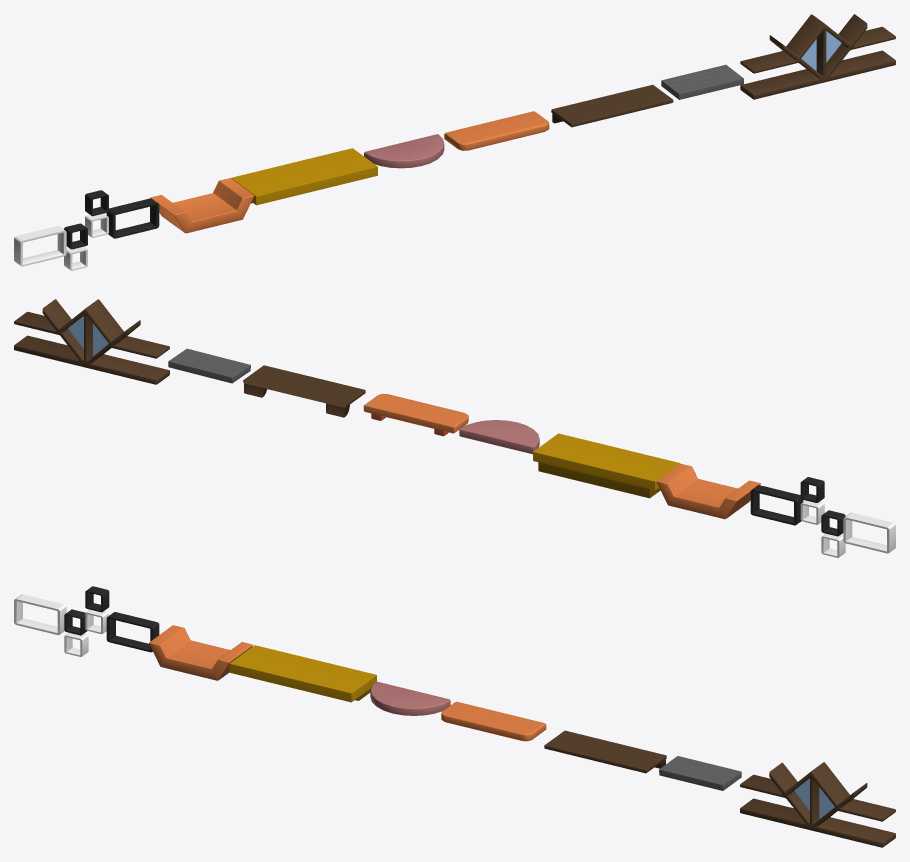
File: Shelf.fbx
3 views of the same model, one above another, from view 1: azimuth 30°, elevation 25°; view 2: azimuth 150°, elevation 25°; view 3: azimuth 330°, elevation 25° (orthographic).
Visible parts, largest first — view 1: Shelf_07, Shelf_3, Shelf_08, Shelf_2, Shelf_5, Shelf_1, Shelf_4, Shelf_6; view 2: Shelf_07, Shelf_3, Shelf_08, Shelf_2, Shelf_5, Shelf_1, Shelf_4, Shelf_6; view 3: Shelf_07, Shelf_3, Shelf_08, Shelf_2, Shelf_5, Shelf_1, Shelf_4, Shelf_6.
Boxes of the visible parts, bbox=[...] form: Shelf_07: bbox=[740, 14, 895, 99]; Shelf_3: bbox=[231, 148, 377, 205]; Shelf_08: bbox=[14, 190, 159, 270]; Shelf_2: bbox=[150, 178, 254, 233]; Shelf_5: bbox=[551, 84, 673, 127]; Shelf_1: bbox=[444, 111, 549, 150]; Shelf_4: bbox=[364, 134, 444, 168]; Shelf_6: bbox=[661, 64, 743, 99]; Shelf_07: bbox=[14, 299, 169, 384]; Shelf_3: bbox=[533, 433, 680, 498]; Shelf_08: bbox=[750, 477, 895, 557]; Shelf_2: bbox=[656, 463, 760, 519]; Shelf_5: bbox=[243, 365, 365, 417]; Shelf_1: bbox=[363, 393, 468, 436]; Shelf_4: bbox=[459, 420, 539, 454]; Shelf_6: bbox=[168, 348, 250, 383]; Shelf_07: bbox=[740, 762, 895, 847]; Shelf_3: bbox=[229, 645, 376, 702]; Shelf_08: bbox=[14, 586, 159, 656]; Shelf_2: bbox=[149, 625, 253, 680]; Shelf_5: bbox=[544, 730, 666, 773]; Shelf_1: bbox=[441, 701, 546, 741]; Shelf_4: bbox=[370, 681, 450, 715]; Shelf_6: bbox=[659, 756, 741, 790].
Size of the model in its own units: 1155 by 85.91 by 62.97.
